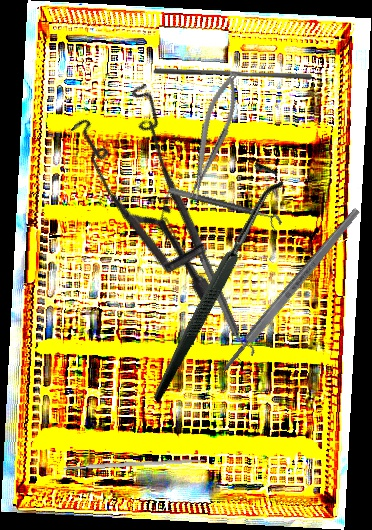Fixation Ring: (185, 232, 257, 363), (165, 186, 284, 233)
Hook Surgical: (76, 156, 347, 404)
Needle Holder: (176, 68, 249, 202)
Pusher: (153, 68, 312, 80)
Scalpel Handle: (219, 206, 363, 374), (62, 457, 206, 471)
Speculum: (32, 64, 293, 308)
